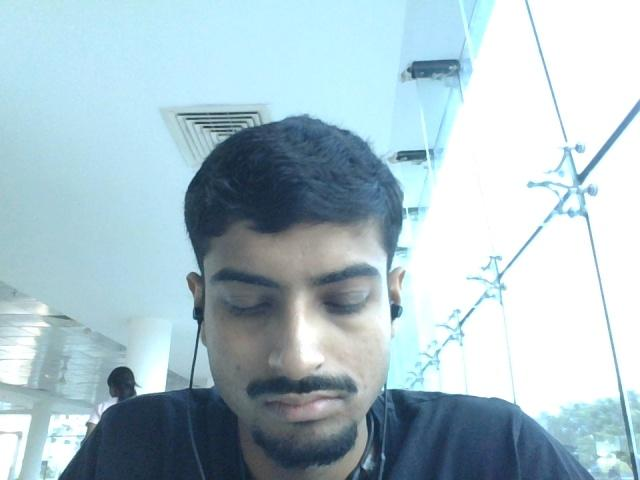average: (175, 112, 429, 468)
